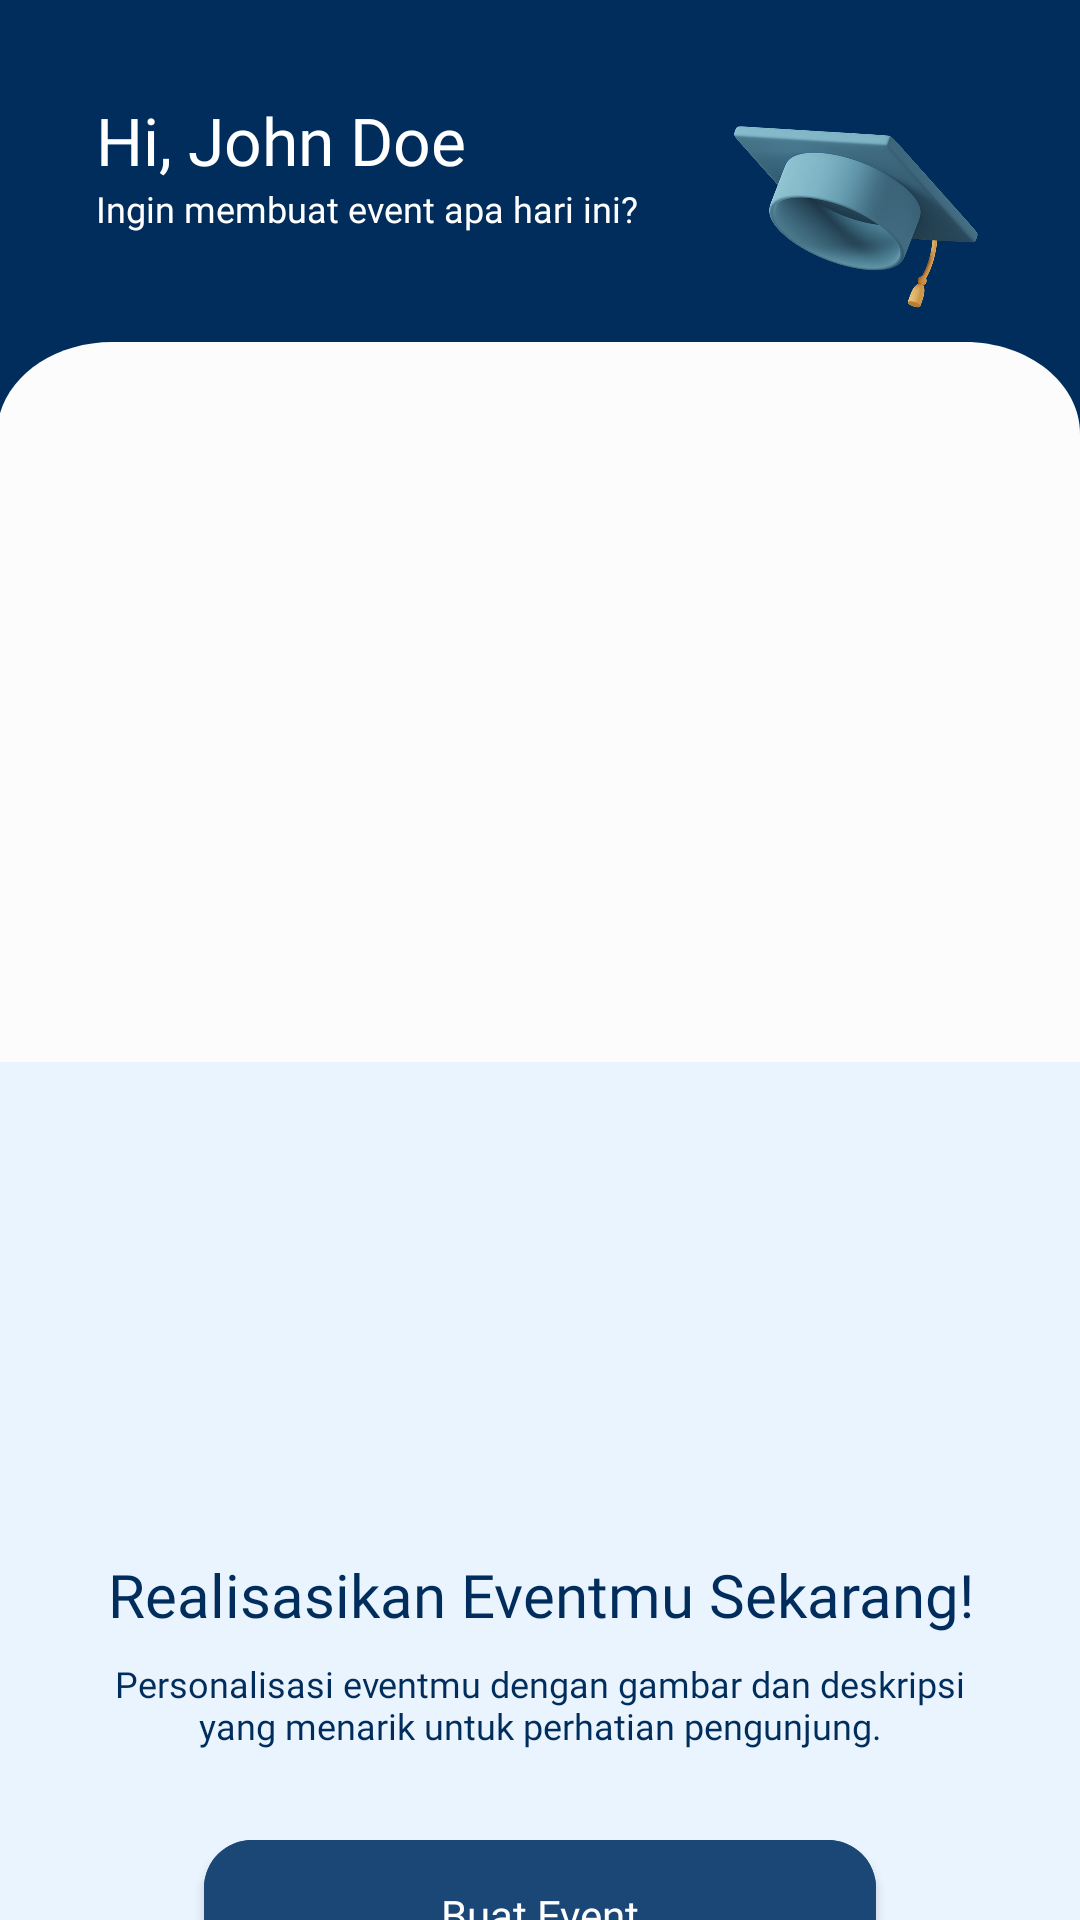

Screen size 1080×1920. Icon name, then its box in pixels as (x1, y1, x2, y2):
cartoon 3d hat: (734, 126, 978, 308)
